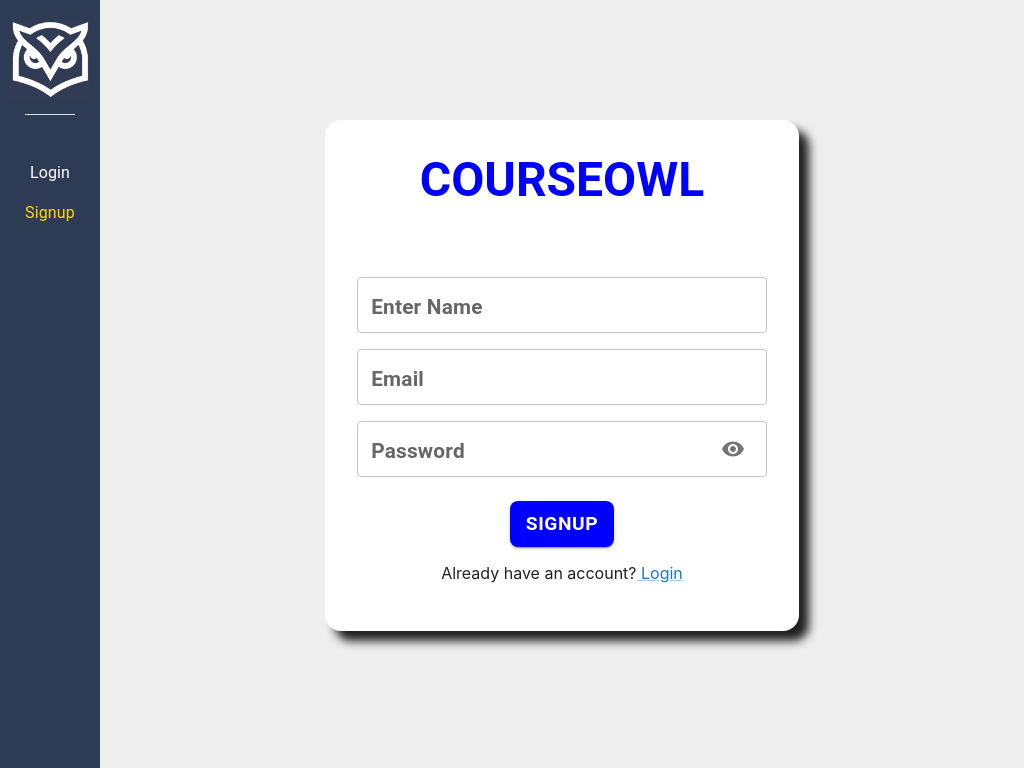
Test: Signup Page › should display error message if password is missing uppercase
Type "John Doe" into the field named "name". click: (562, 305)
box: x1=357 y1=277 x2=767 y2=333
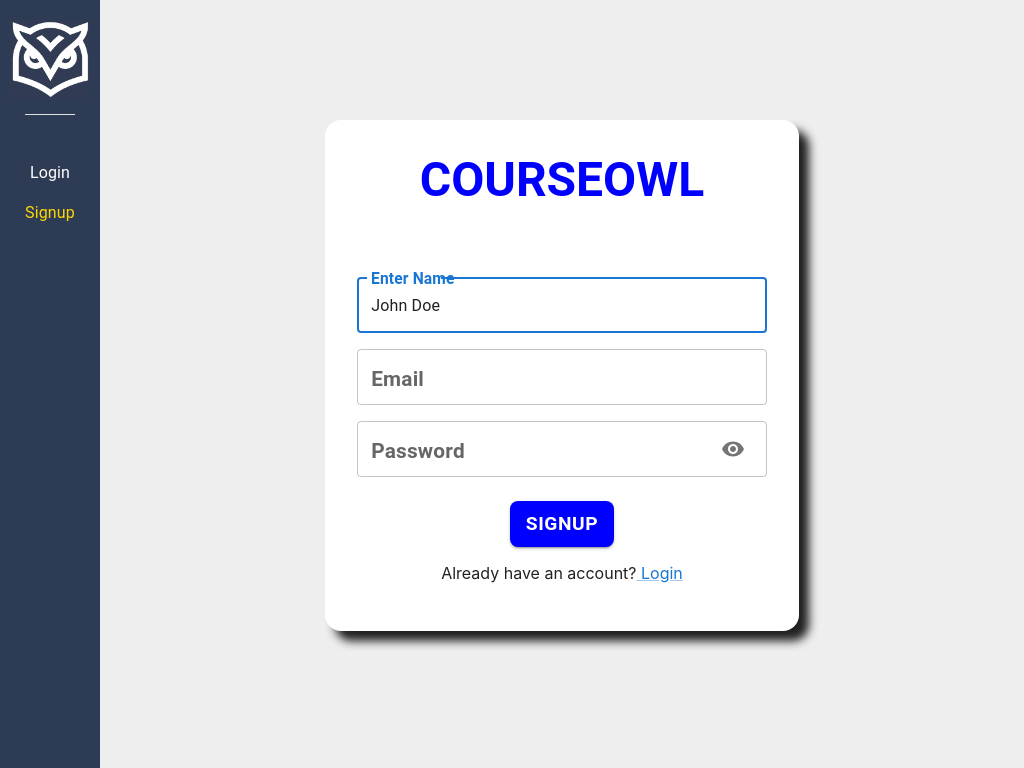
Type "john@example.com" into the field named "email". click: (562, 377)
box: x1=357 y1=349 x2=767 y2=405
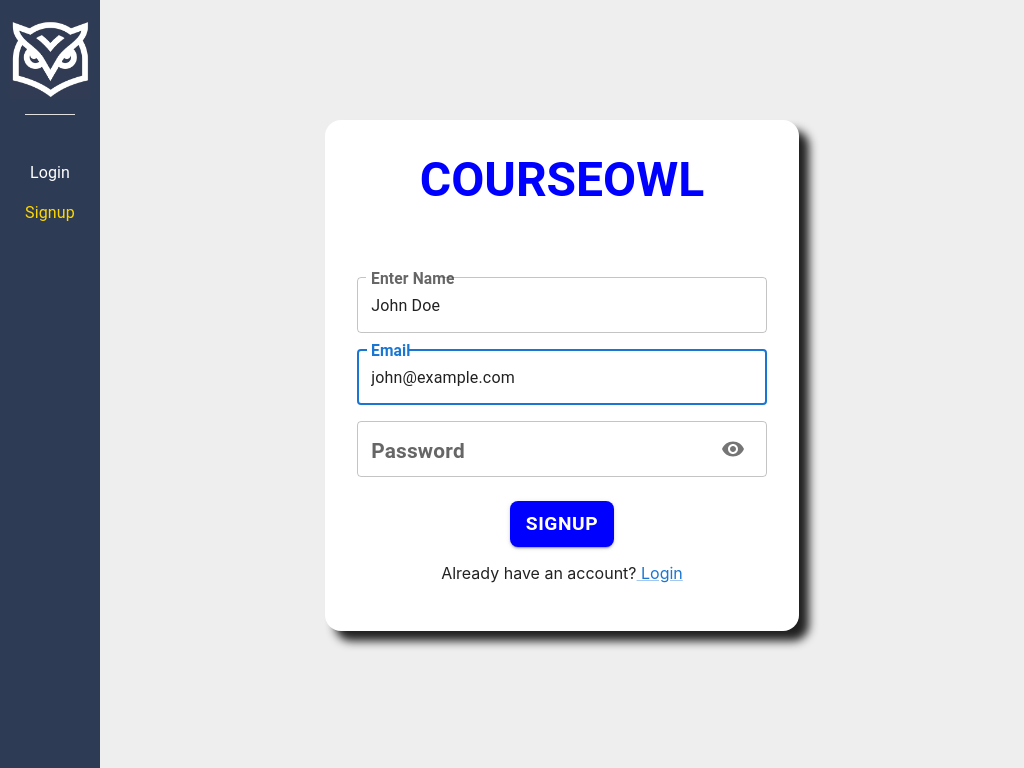
Type "password1!" into the password field named "password". click: (531, 449)
box: x1=357 y1=421 x2=705 y2=477
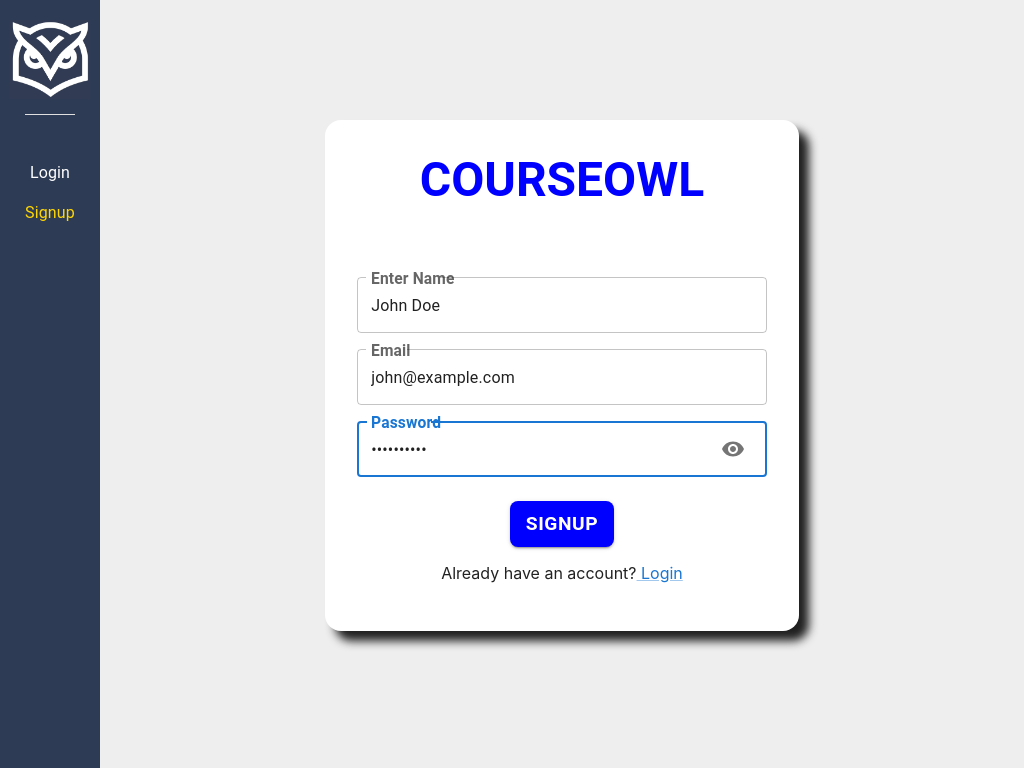
Click the button "SignUp". click: (562, 524)
box: x1=510 y1=501 x2=614 y2=547
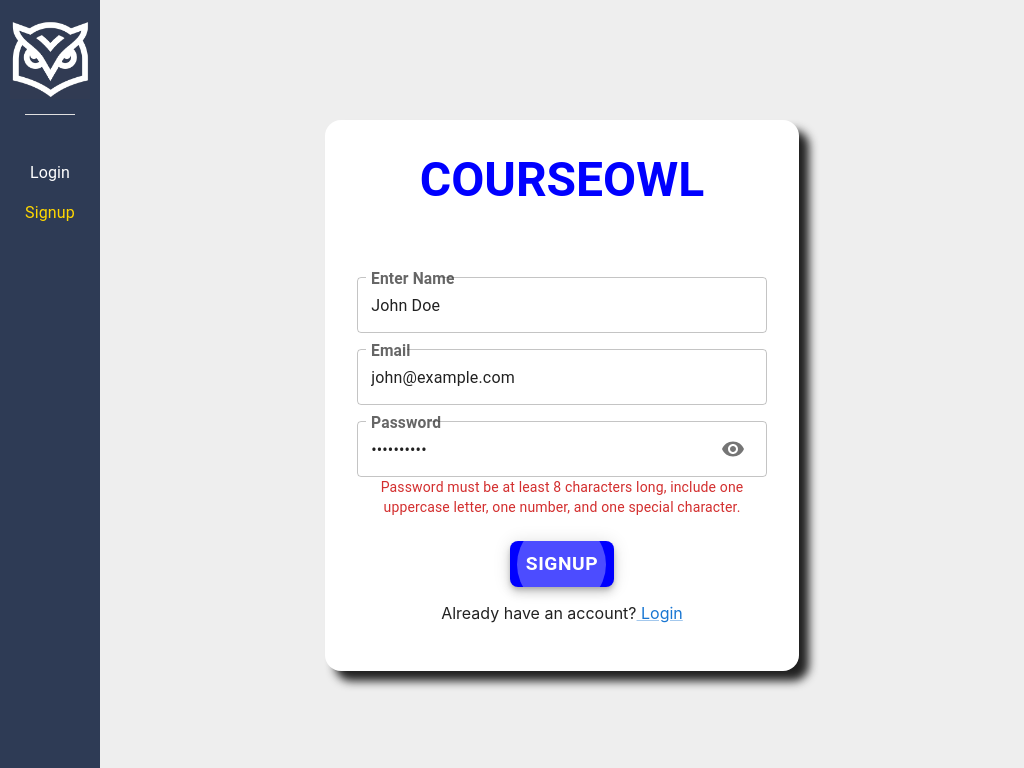
Now the text "Password must be at least 8 characters long, include one uppercase letter, one number, and one special character." is shown, box x1=381 y1=479 x2=744 y2=515
